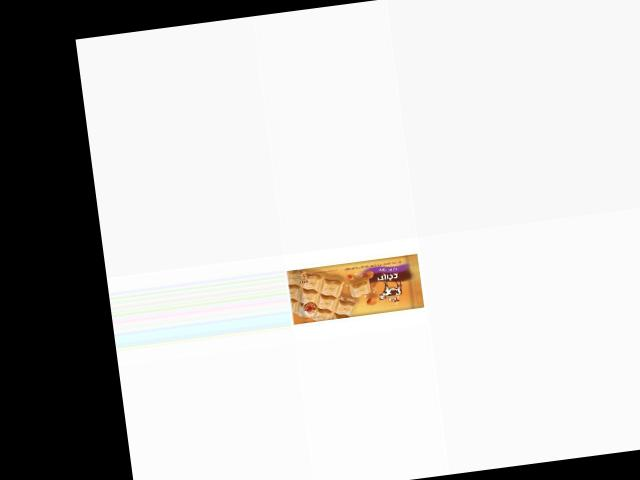chocolate: (285, 249, 428, 324)
